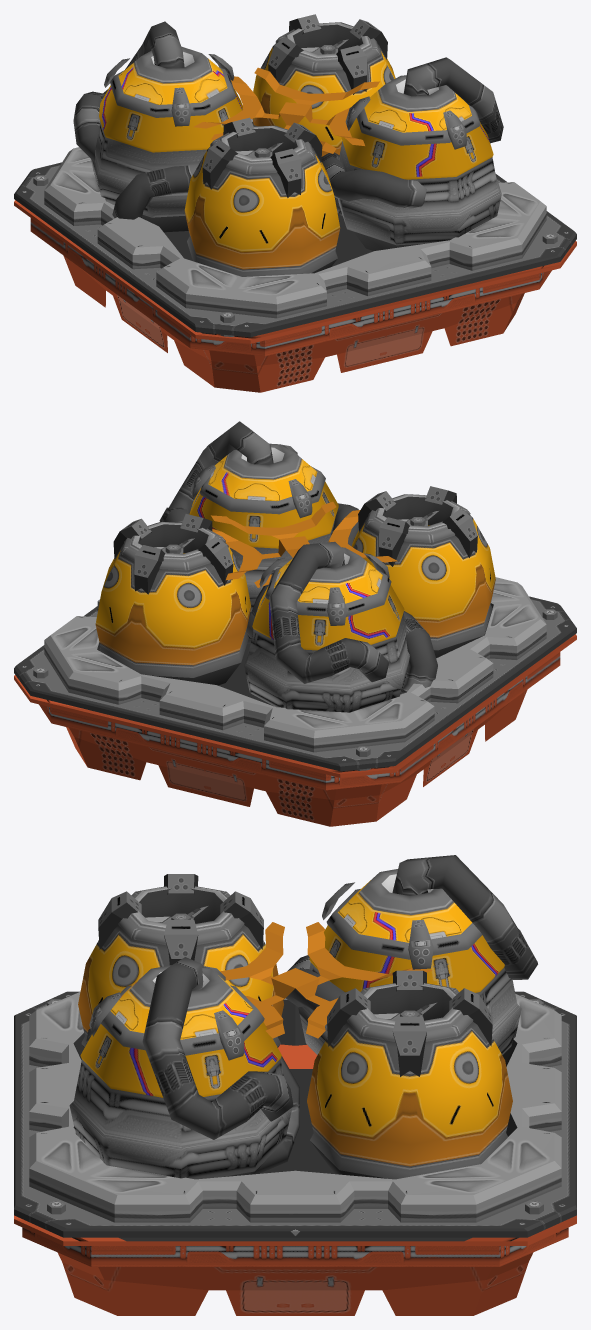
The model's file is hydro-plant-1.glb.
3 renders of one model, top to bottom at view 1: azimuth 30°, elevation 25°; view 2: azimuth 150°, elevation 25°; view 3: azimuth 270°, elevation 25°, orthographic. The views are drawn at different scales.
Parts seen in each view (by area): view 1: Sphere.001; view 2: Sphere.001; view 3: Sphere.001.
Part boxes in pixels (x1,y1,x2,y2): Sphere.001: (14, 14, 576, 392); Sphere.001: (14, 421, 576, 826); Sphere.001: (14, 855, 576, 1315).
Size of the model in its own units: 44.31 by 27.85 by 44.31.
Materials: 1 (1 with a texture image).
